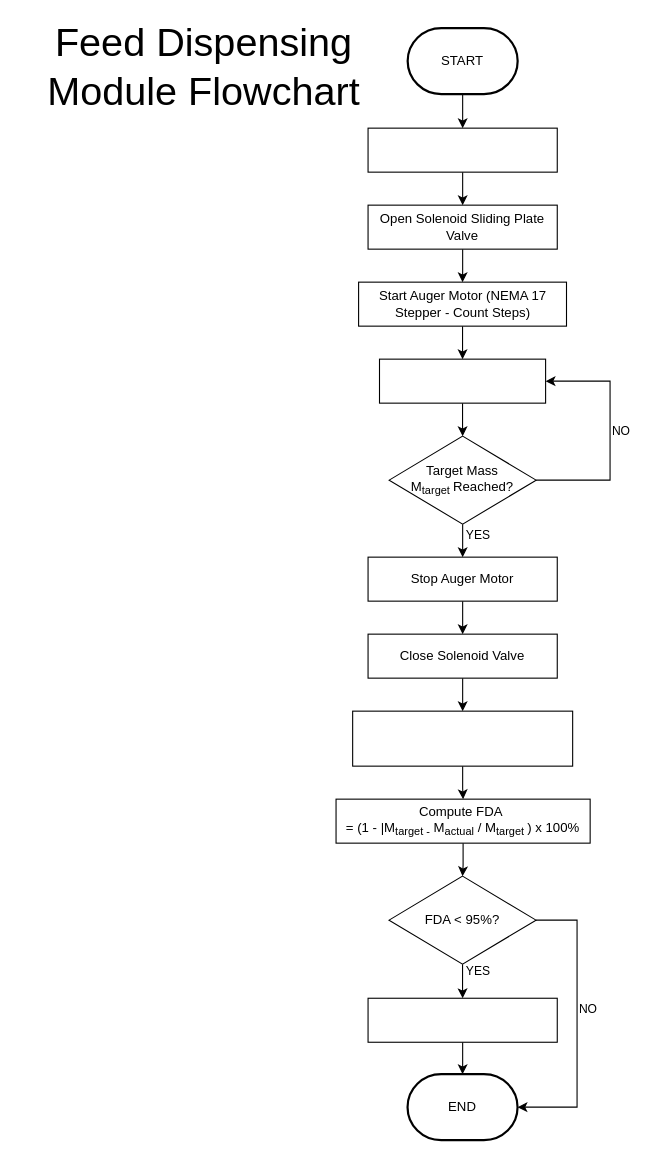
Image size: 649x1159. Some labels were removed from this diagram. Each missing label, with the centre of its shape:
Feeding Event Triggered (Schedule or Manual Override): pixel 462 149
Flag Module for Recalibration: pixel 462 1019
Log Dispensing Event to SQLite (M target , M actual , Timestamp): pixel 462 738
Read Load Cell (Trough Weight via HX711): pixel 462 380
